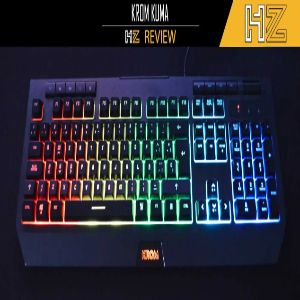keyboard: (17, 76, 290, 266)
